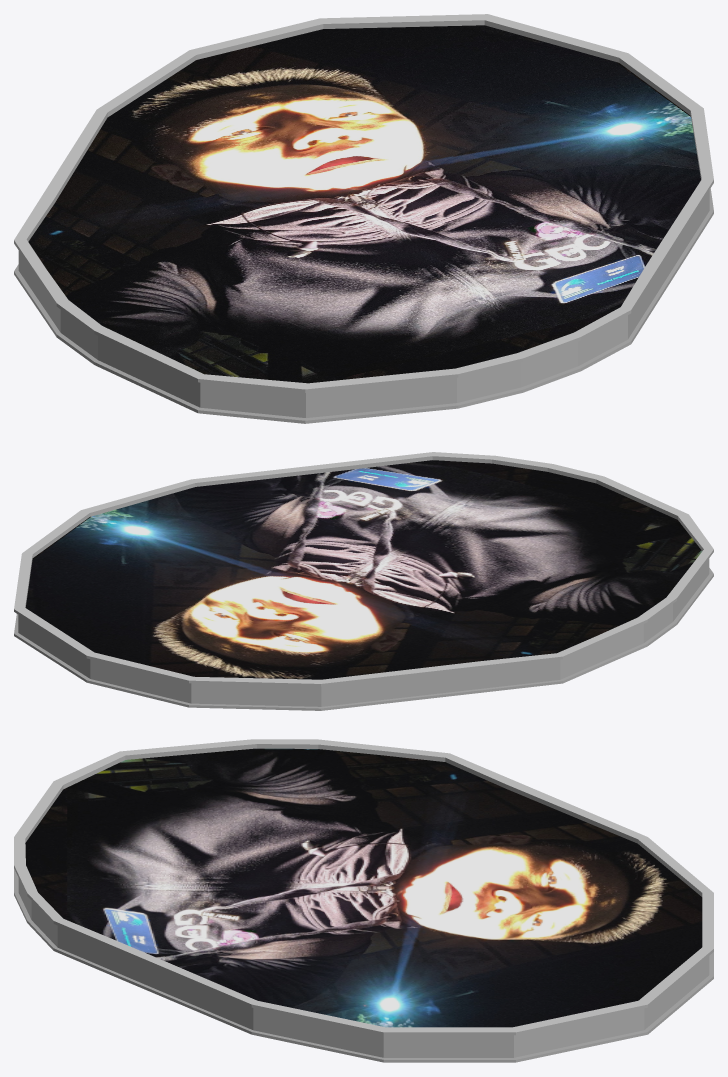
Rendered from Terry Collectable.fbx.
3 renders of one model, top to bottom at view 1: azimuth 30°, elevation 25°; view 2: azimuth 150°, elevation 25°; view 3: azimuth 270°, elevation 25°, orthographic. The views are drawn at different scales.
Parts seen in each view (by area): view 1: pPlane1; view 2: pPlane1; view 3: pPlane1.
Part boxes in pixels (bbox=[...]): pPlane1: bbox=[14, 14, 713, 423]; pPlane1: bbox=[14, 452, 713, 710]; pPlane1: bbox=[14, 739, 713, 1062].
Bounding box in the file's own units: 0.525 × 0.0252 × 0.53.
